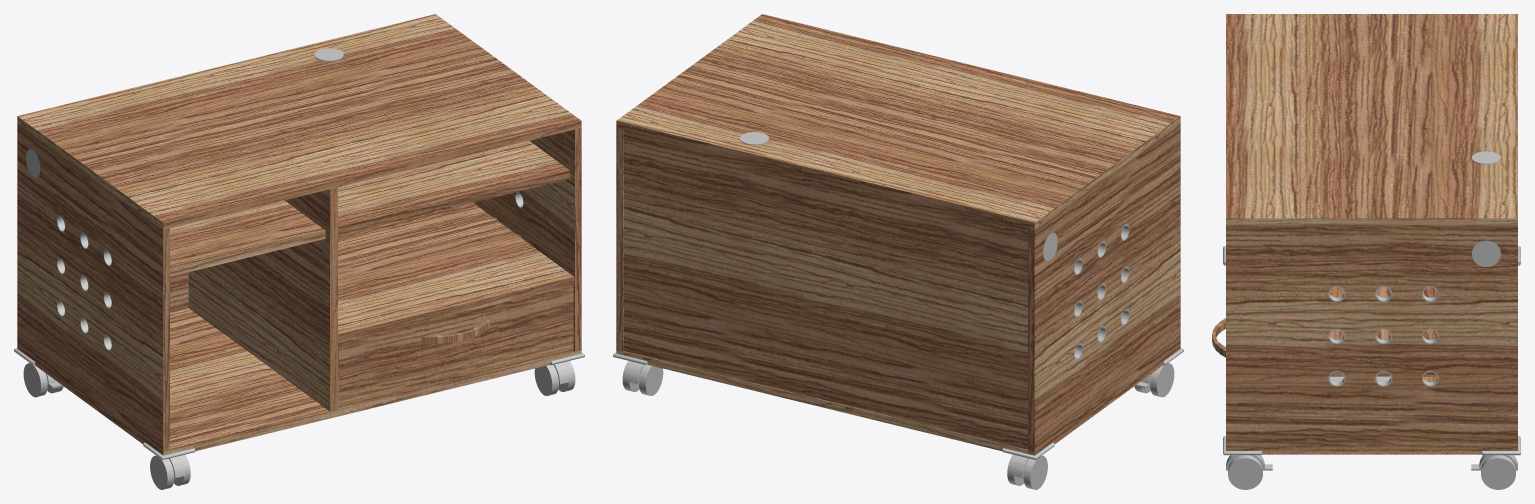
File: combi_container_99_open_left_paper_compartment_shelf+shelf_finala.fbx
3 renders of one model, left to right at view 1: azimuth 30°, elevation 25°; view 2: azimuth 150°, elevation 25°; view 3: azimuth 270°, elevation 25°, orthographic.
Visible parts, largest first — view 1: obudowa_mesh, drewno1_mesh, plastik_mesh, raczka_mesh; view 2: obudowa_mesh, plastik_mesh; view 3: obudowa_mesh, plastik_mesh.
Boxes of the visible parts, x1,y1,x2,y2 form: obudowa_mesh: (17,14,581,455); drewno1_mesh: (338,284,573,407); plastik_mesh: (14,48,584,489); raczka_mesh: (421,320,490,343); obudowa_mesh: (616,14,1180,455); plastik_mesh: (613,132,1183,489); obudowa_mesh: (1226,14,1517,454); plastik_mesh: (1223,151,1520,489).
Bounding box in the file's own units: 100 × 62.4 × 63.47.
